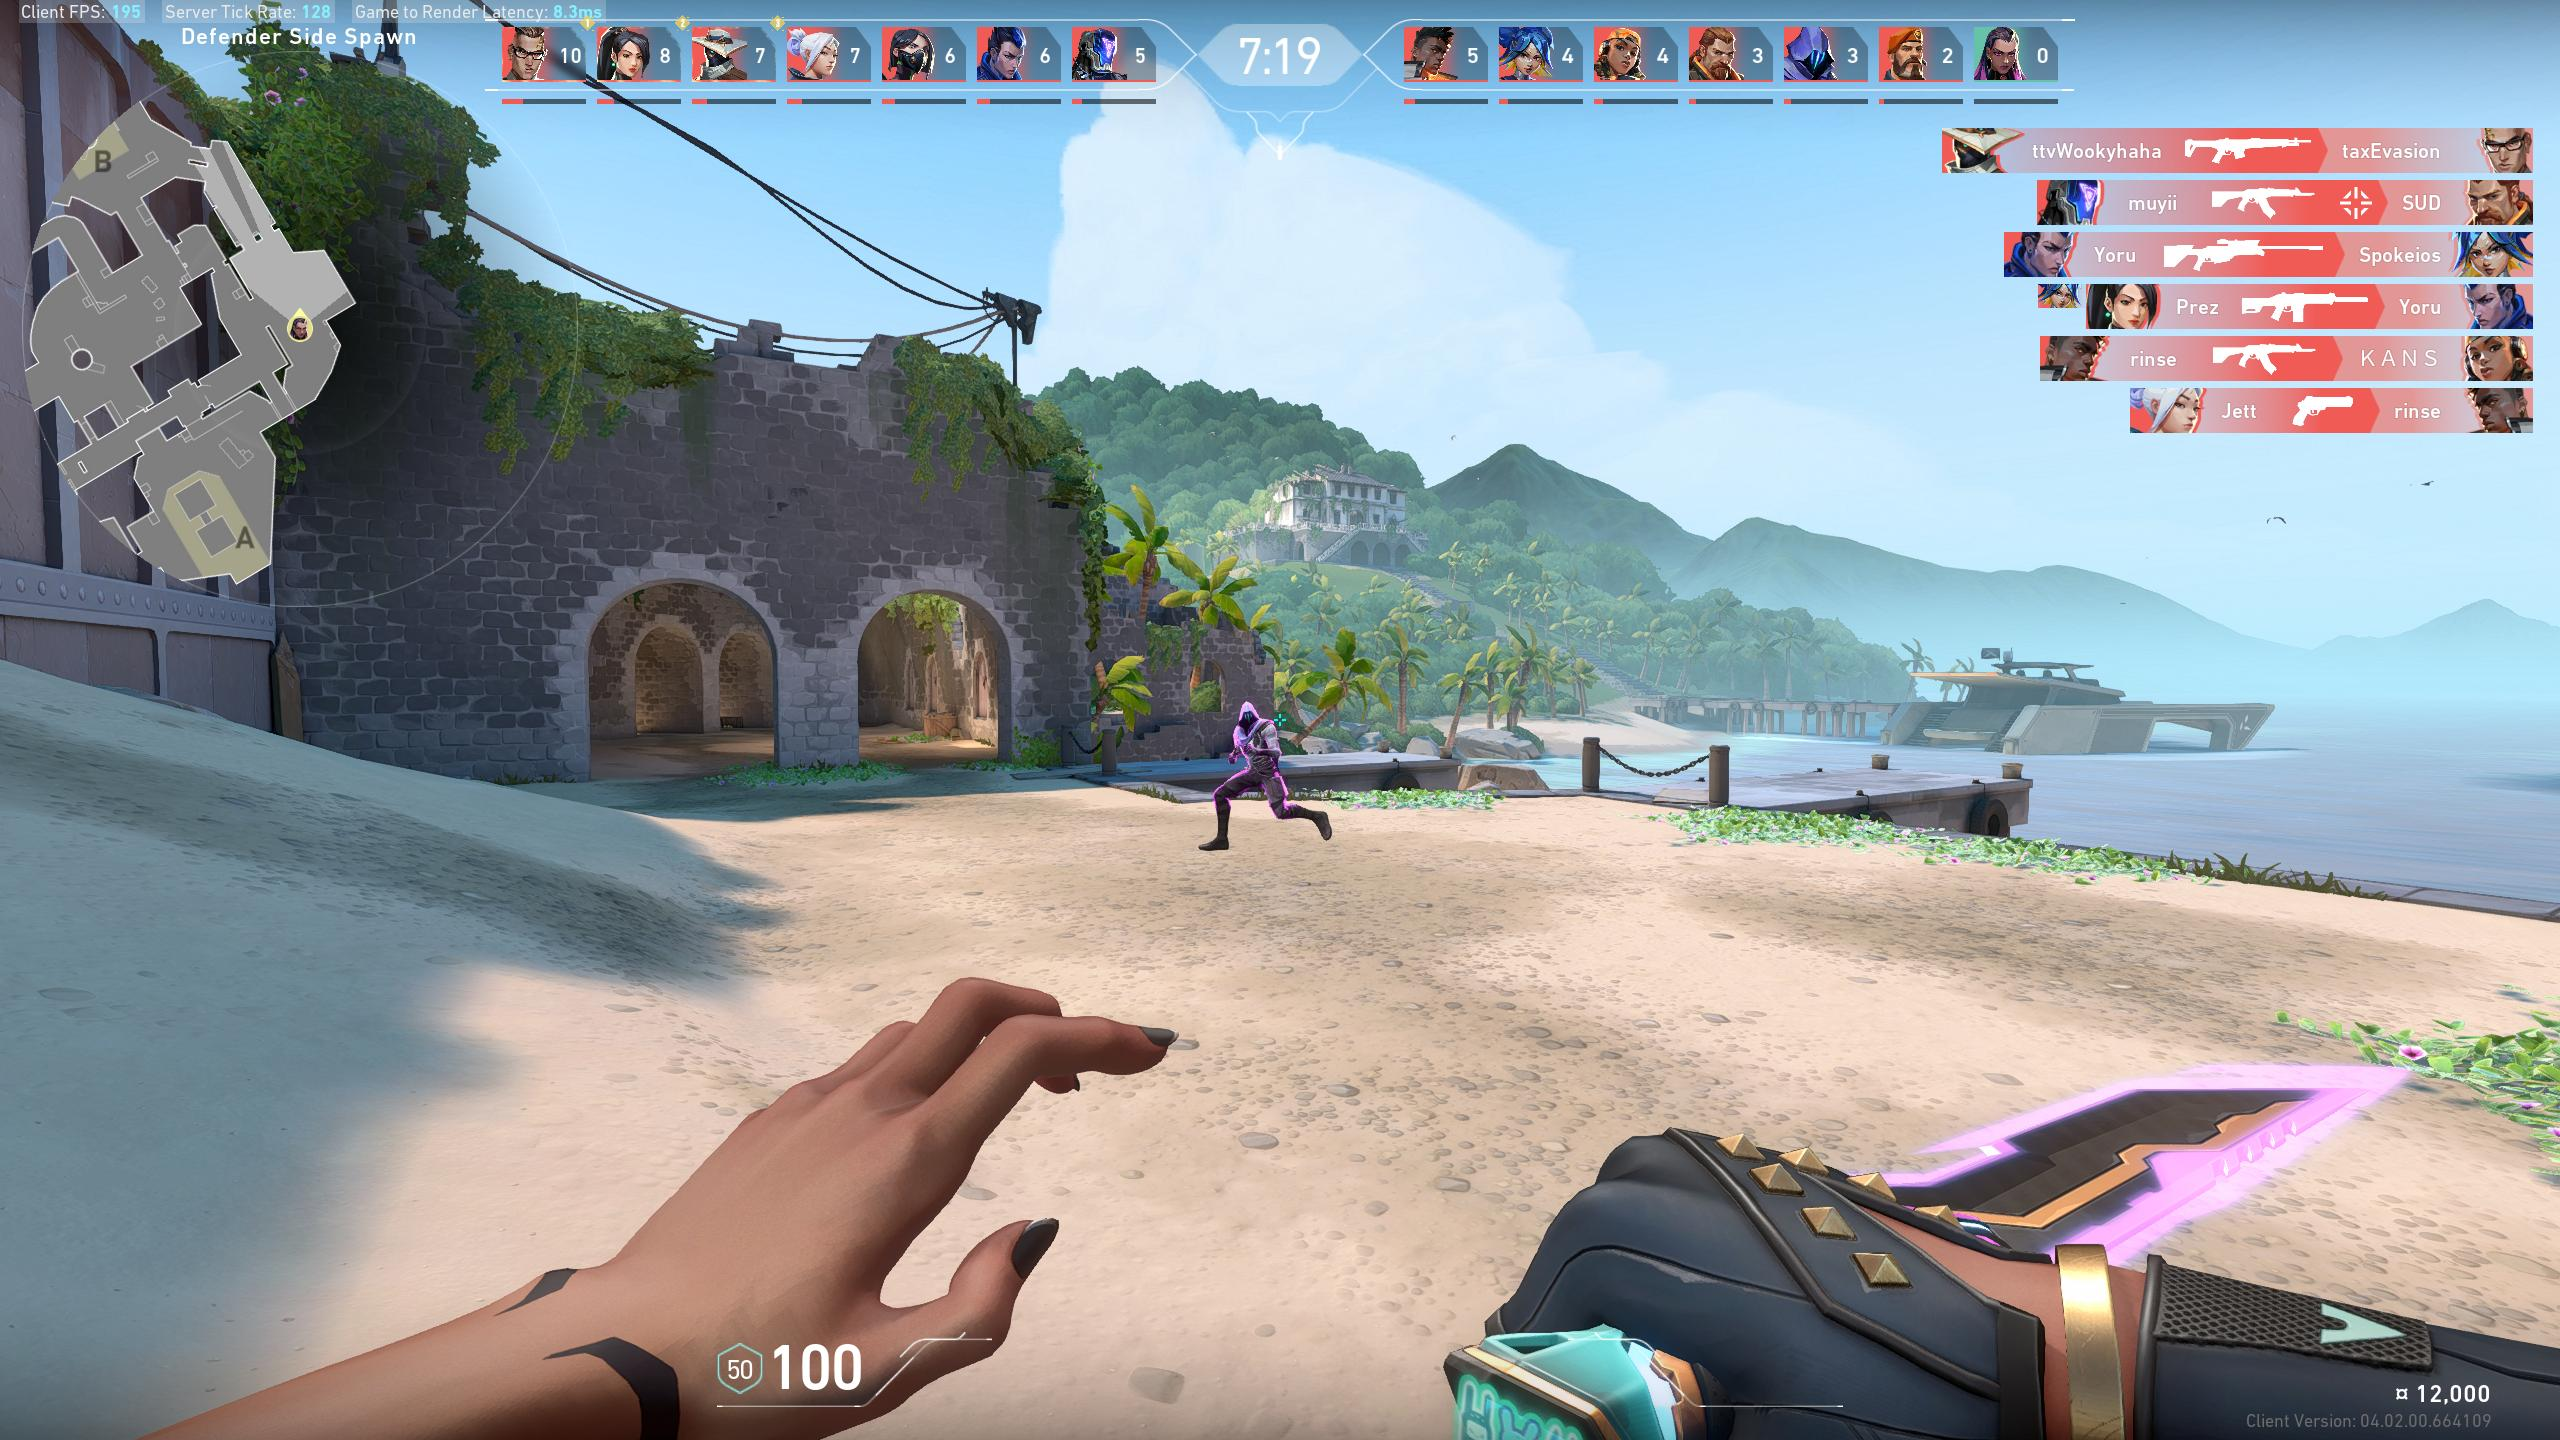enemyBody: (1248, 731, 1268, 767)
enemyHead: (1241, 710, 1254, 724)
